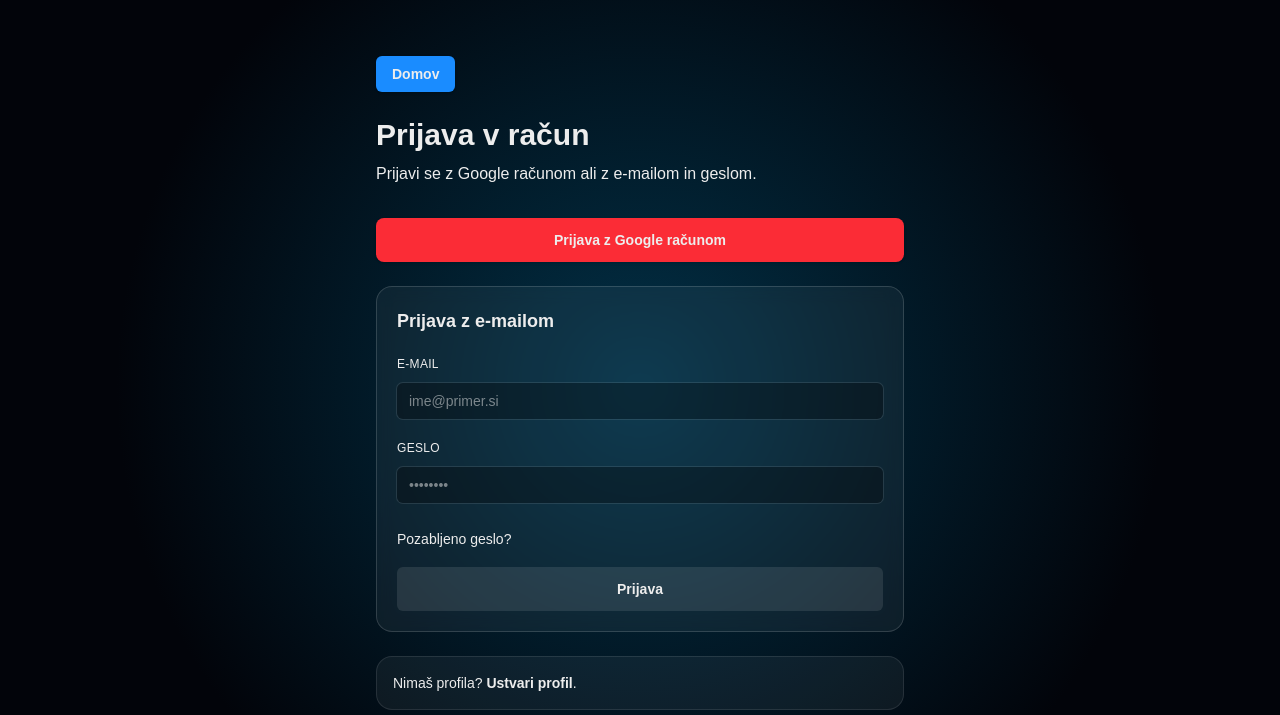
Login Page › izbriše napake ob ponovnem tipkanju
The width and height of the screenshot is (1280, 715).
Submit the form, box [397,351,883,611]
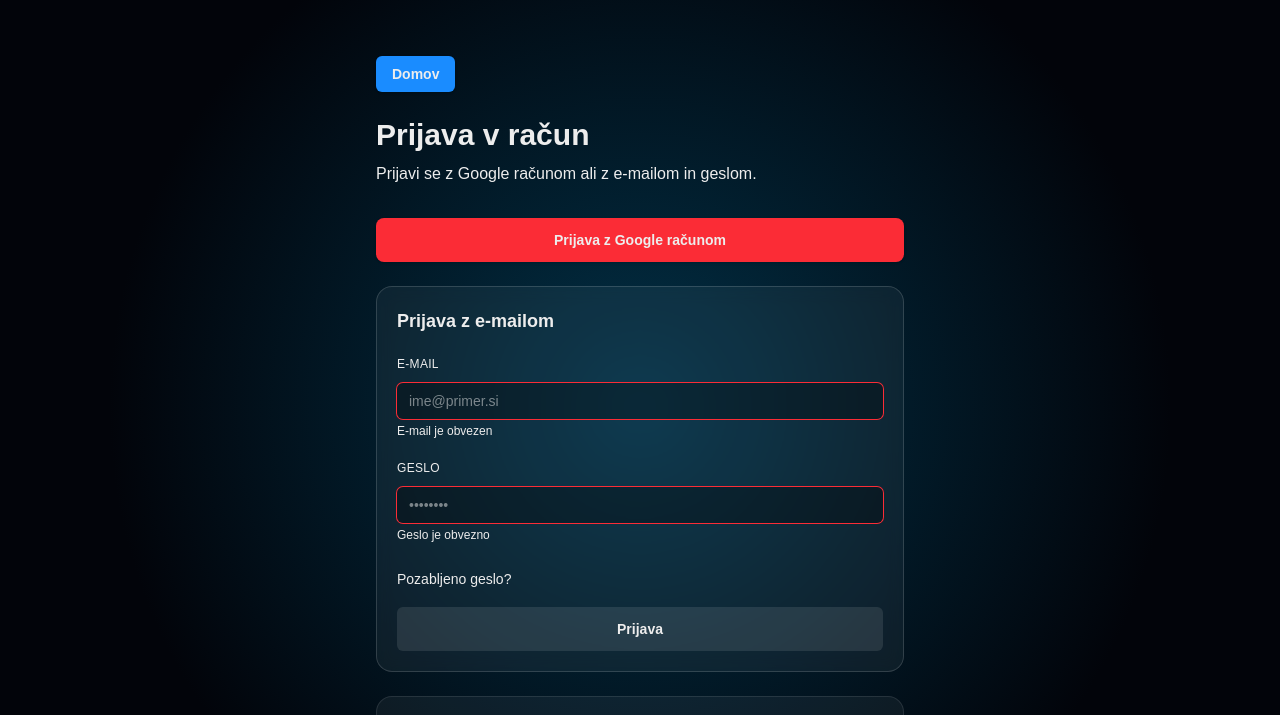
Result: the text "E-mail je obvezen" is shown at [397,424,492,438]
Type "t" into the field with placeholder "ime@primer.si" at (640, 401), box [397,383,883,419]
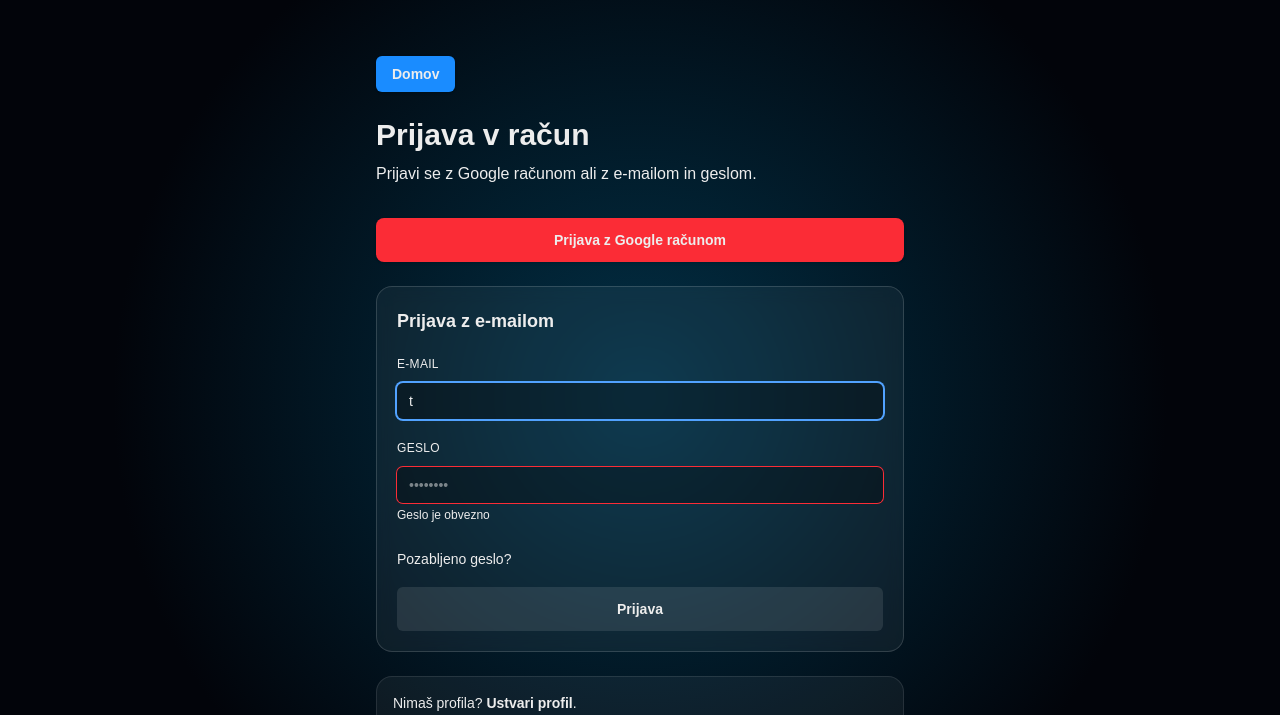
Result: the text "E-mail je obvezen" is gone
